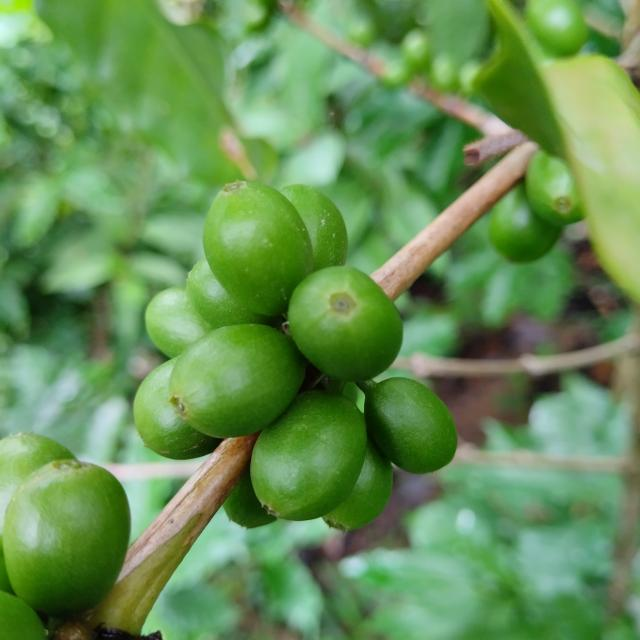green: (1, 460, 130, 618), (169, 324, 306, 439), (250, 391, 367, 521), (203, 181, 314, 316), (288, 266, 403, 382), (133, 357, 221, 460), (365, 378, 458, 474), (0, 433, 74, 536), (323, 437, 393, 532), (186, 258, 274, 328), (279, 184, 348, 271), (489, 183, 562, 262), (145, 286, 213, 358), (526, 150, 586, 226), (0, 592, 46, 640)
